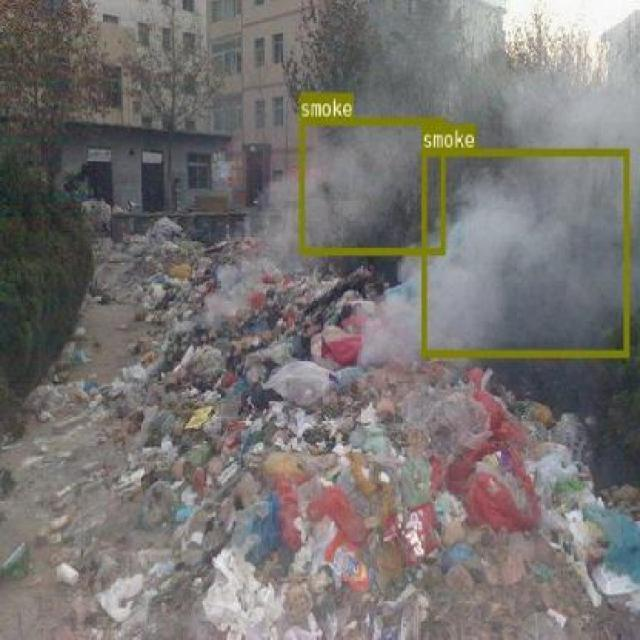Smoke: (420, 148, 628, 357), (387, 17, 616, 135), (298, 116, 444, 252), (368, 296, 420, 363)
